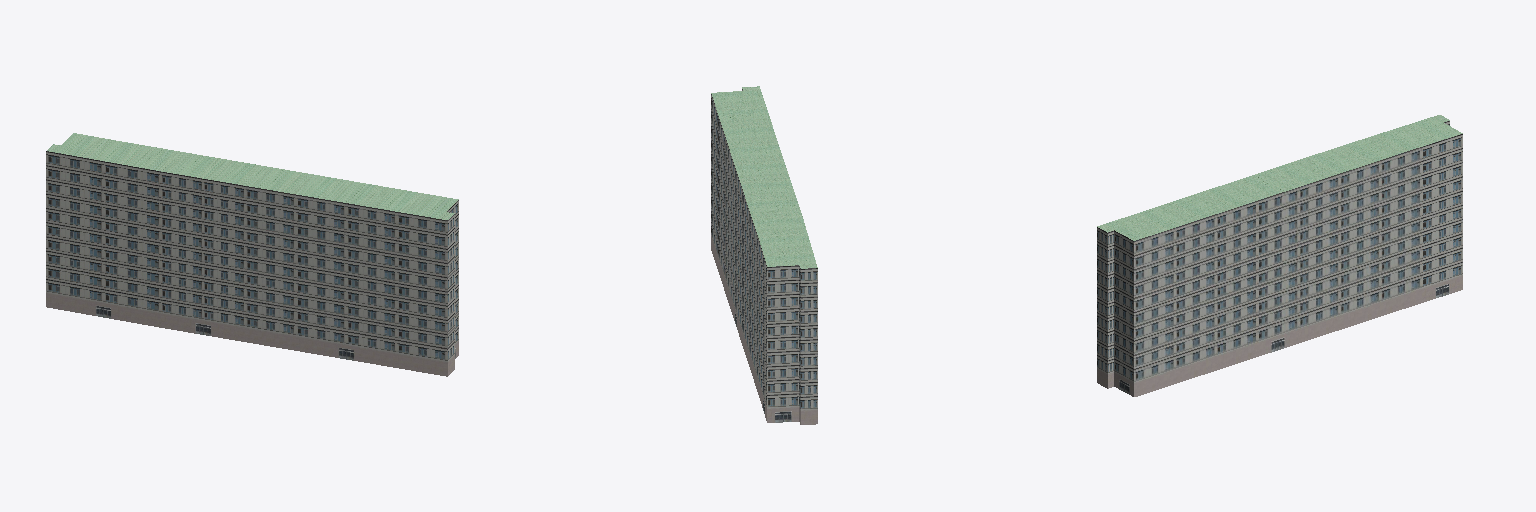
3 views of the same model, side by side, from view 1: azimuth 30°, elevation 25°; view 2: azimuth 150°, elevation 25°; view 3: azimuth 270°, elevation 25° (orthographic).
Visible parts, largest first — view 1: BuildingMaster_[number redacted]_0, BuildingMaster_[number redacted]_1; view 2: BuildingMaster_[number redacted]_0, BuildingMaster_[number redacted]_1; view 3: BuildingMaster_[number redacted]_0, BuildingMaster_[number redacted]_1.
Part boxes in pixels (x1,y1,x2,y2): BuildingMaster_[number redacted]_0: (46,151,458,376); BuildingMaster_[number redacted]_1: (47,133,458,219); BuildingMaster_[number redacted]_0: (711,89,817,424); BuildingMaster_[number redacted]_1: (711,86,817,268); BuildingMaster_[number redacted]_0: (1097,121,1462,396); BuildingMaster_[number redacted]_1: (1097,115,1462,240).
Bounding box in the file's own units: 66.86 × 38.5 × 81.71.
2 materials, 2 textured.